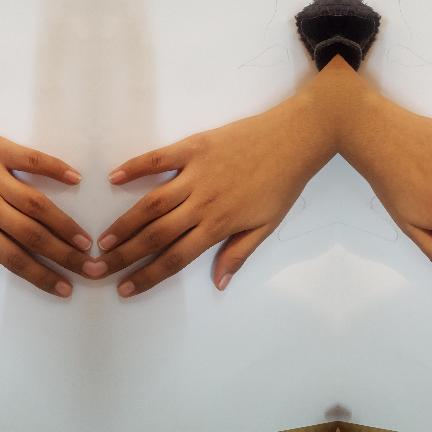Nail: (98, 234, 117, 250), (71, 234, 90, 250), (116, 281, 133, 297), (55, 281, 72, 297), (217, 274, 232, 291), (108, 170, 125, 184), (63, 170, 80, 184), (94, 261, 107, 278), (81, 261, 94, 278)
